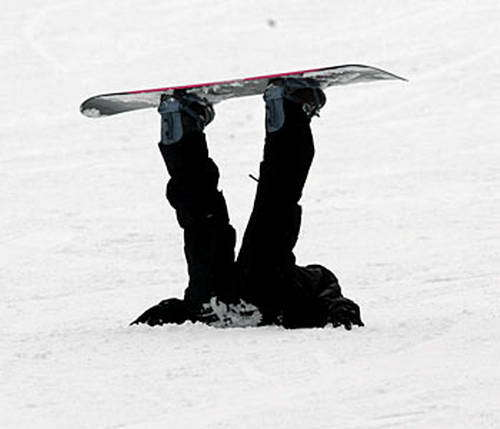fall: (113, 62, 385, 327)
